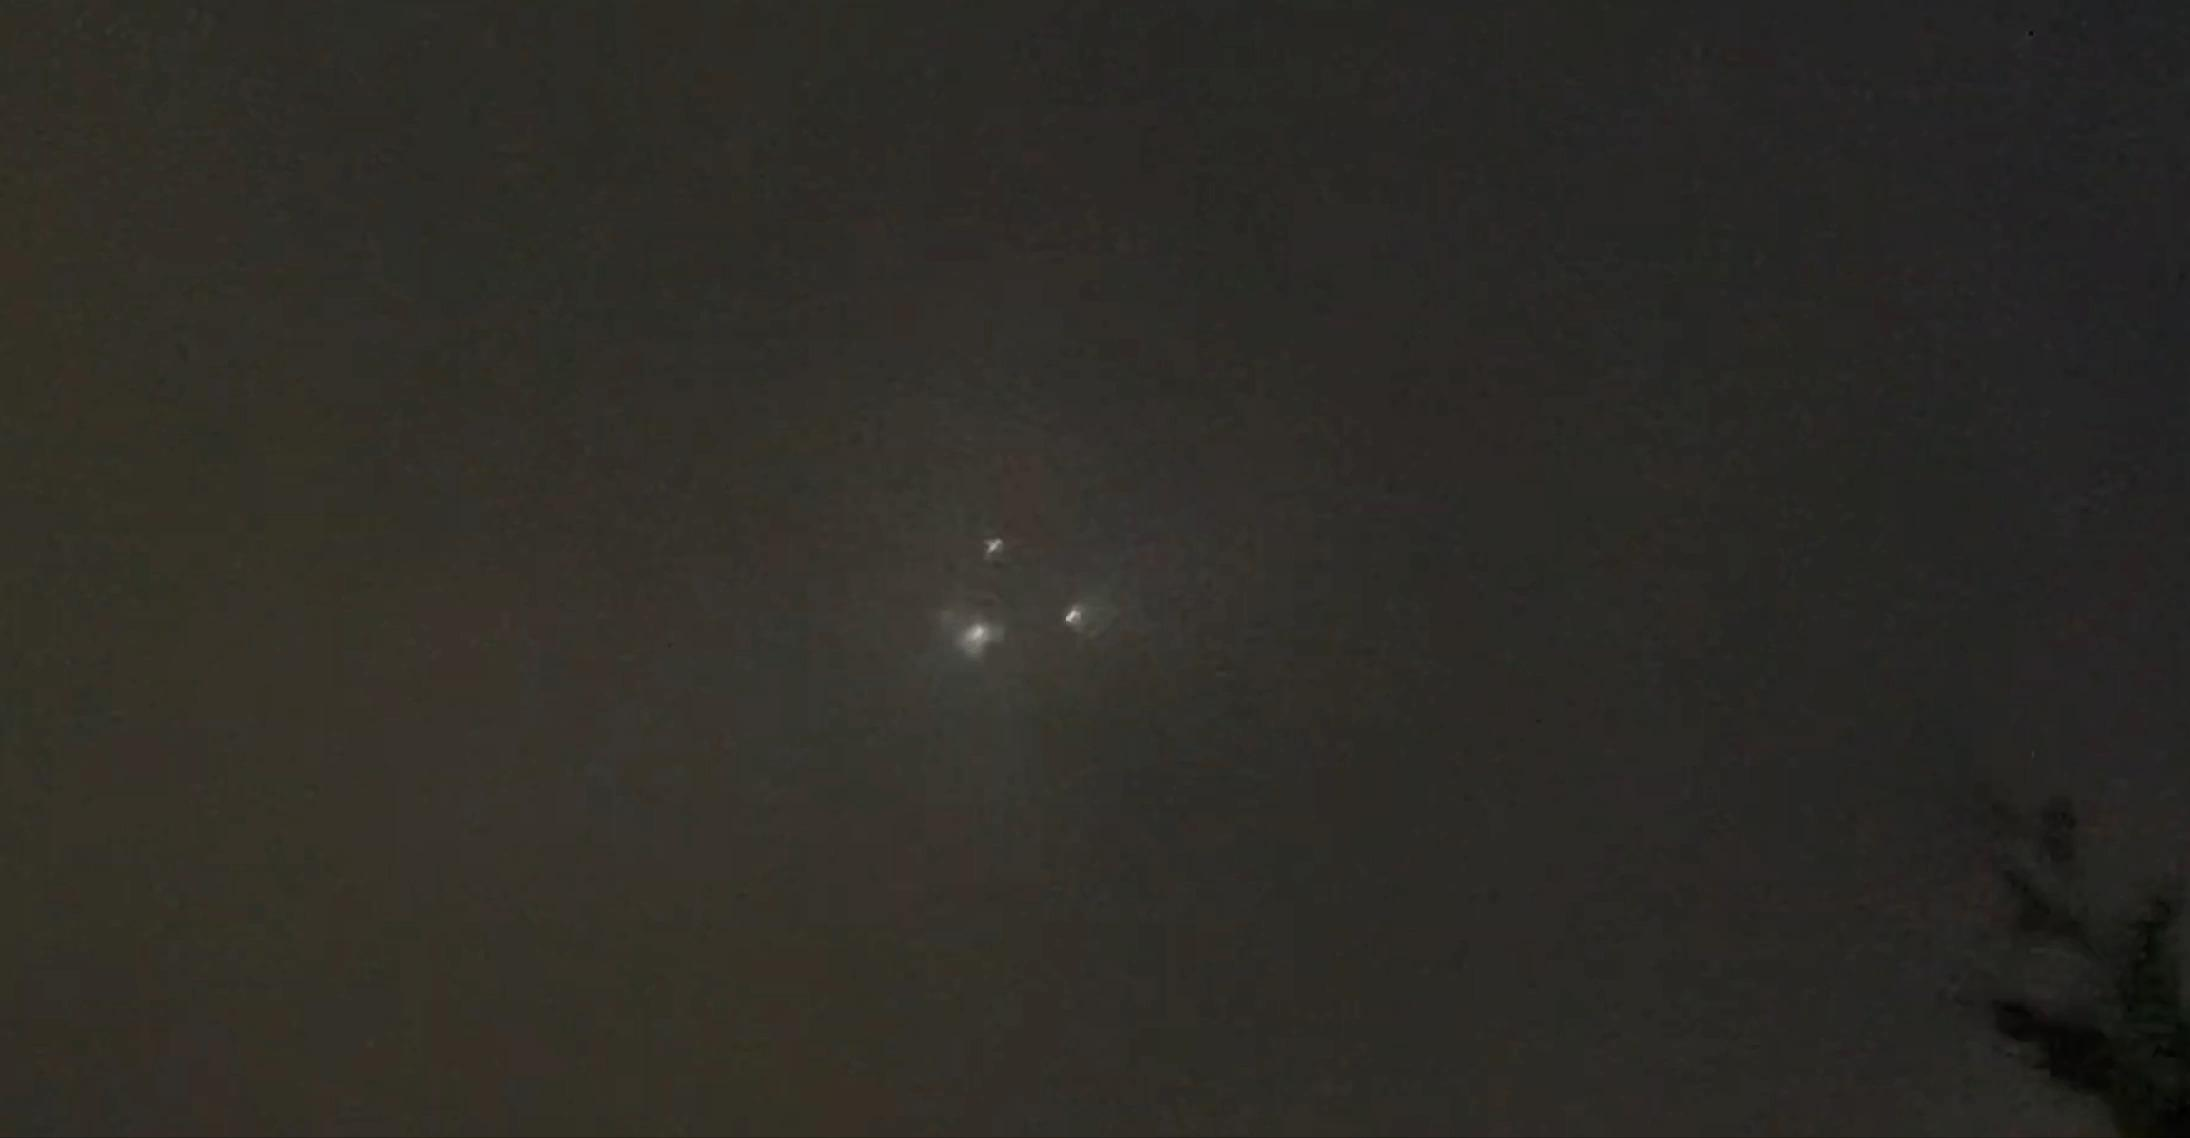Plane: (936, 533, 1109, 667)
